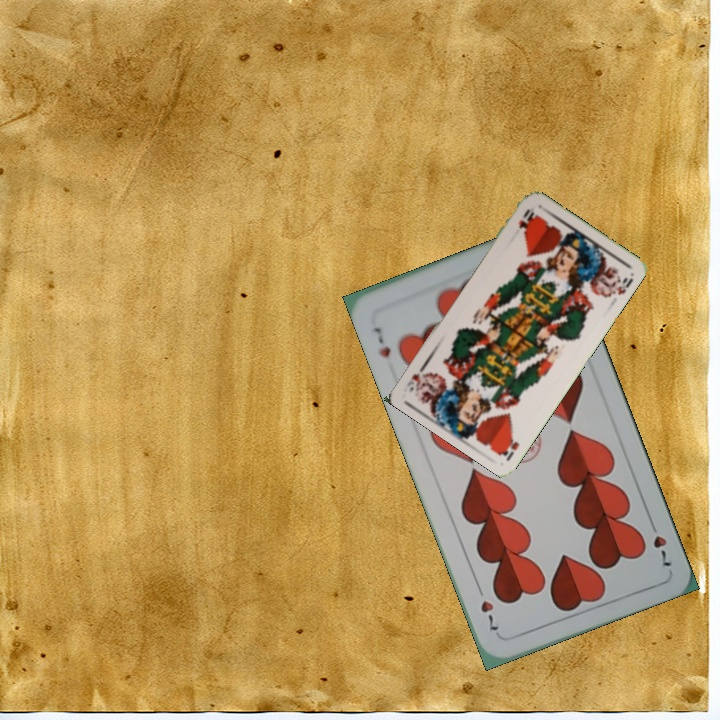H7: (645, 515, 674, 569), (369, 323, 393, 360)
HO: (496, 432, 522, 463), (514, 204, 537, 231)
